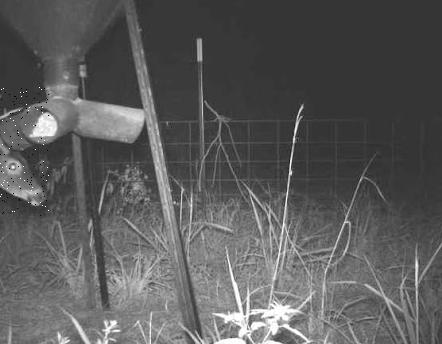Deer: (0, 87, 49, 216)
